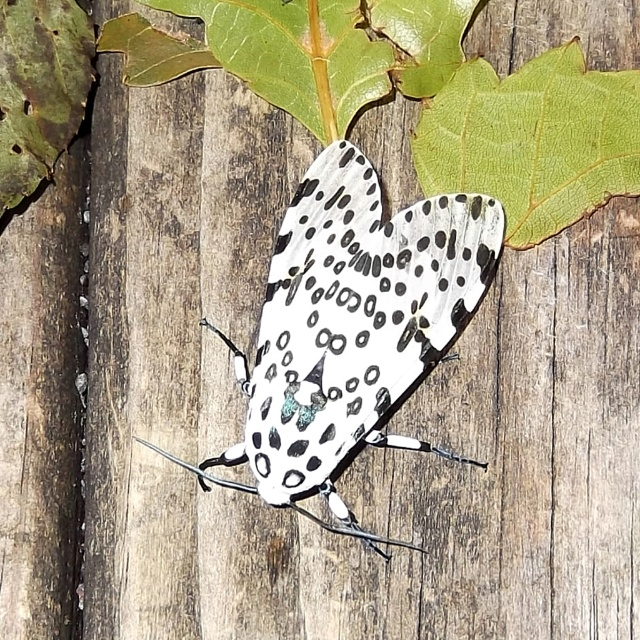Butterfly: (268, 94, 513, 512)
